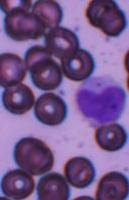M: (74, 75, 126, 128)
